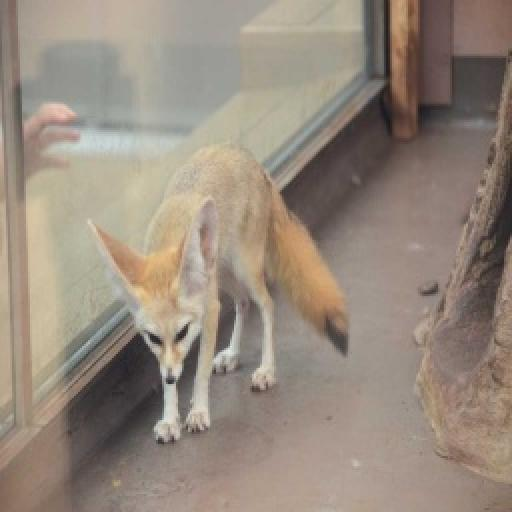zorro: (88, 142, 346, 442)
